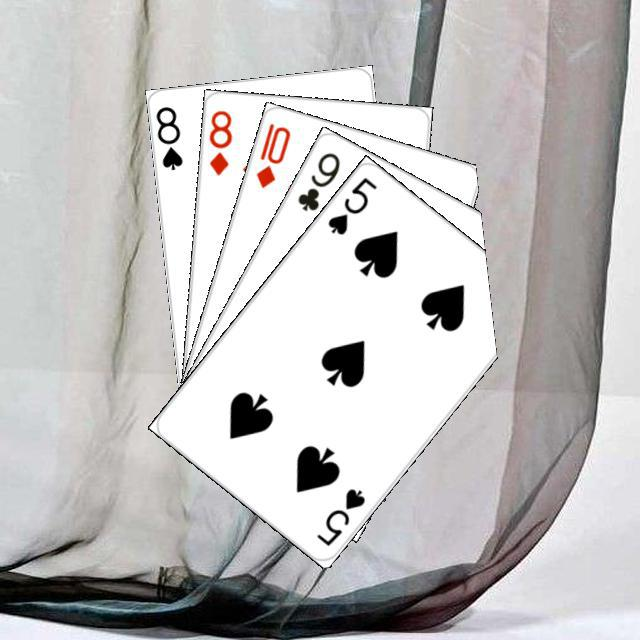10d: (251, 118, 292, 190)
5s: (322, 172, 379, 237), (311, 483, 367, 548)
8d: (204, 106, 234, 177)
8s: (151, 101, 184, 172)
9c: (292, 147, 342, 213)
